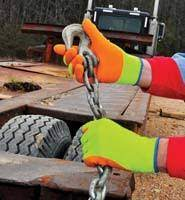gloves: (63, 20, 147, 94), (80, 117, 159, 174)
